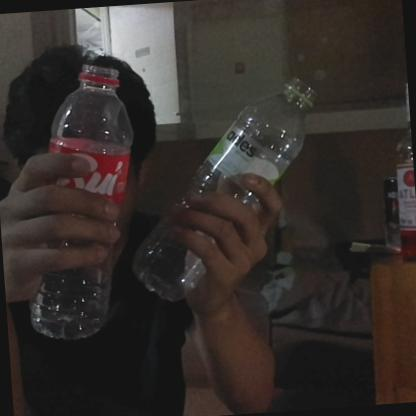plastic_bottles: (132, 69, 332, 299), (9, 60, 145, 348)
